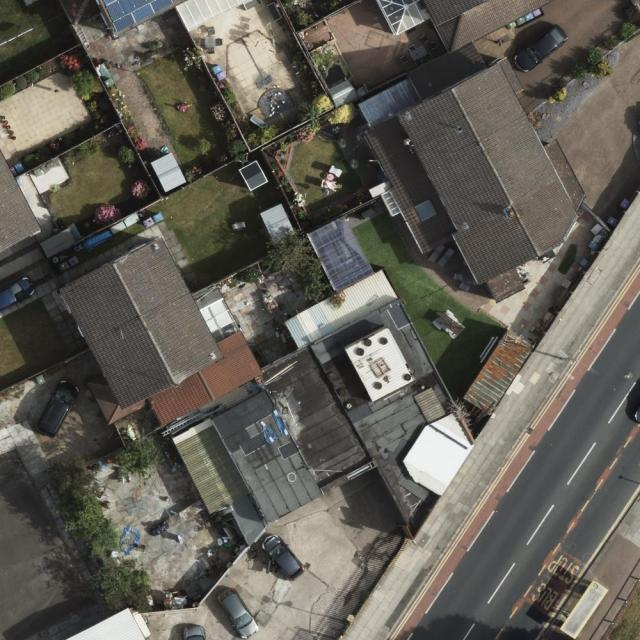roof: (59, 214, 478, 546), (359, 0, 588, 304), (0, 142, 42, 253), (91, 0, 196, 43)
skylight: (303, 215, 375, 295), (371, 0, 433, 37), (414, 199, 441, 222)
solar: (100, 0, 174, 33)
